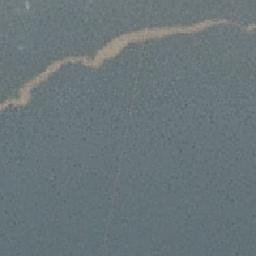debris: (111, 29, 149, 56), (48, 55, 98, 72), (151, 22, 196, 40), (1, 87, 33, 109), (198, 20, 256, 32), (100, 34, 112, 71), (25, 75, 51, 85)
